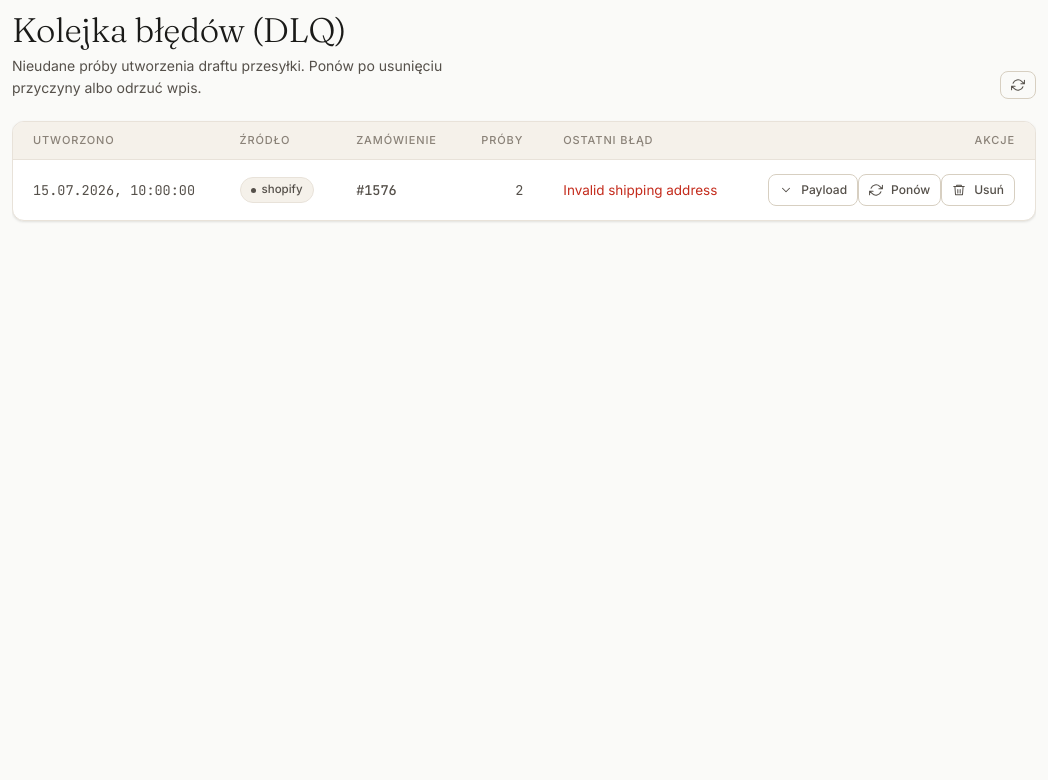
Scenario: DlqView › retries an event and reflects success
Check: the text "#1576" is shown, box [336,159,460,220]
Click the button "Ponów" at (900, 190), box [858,174,941,206]
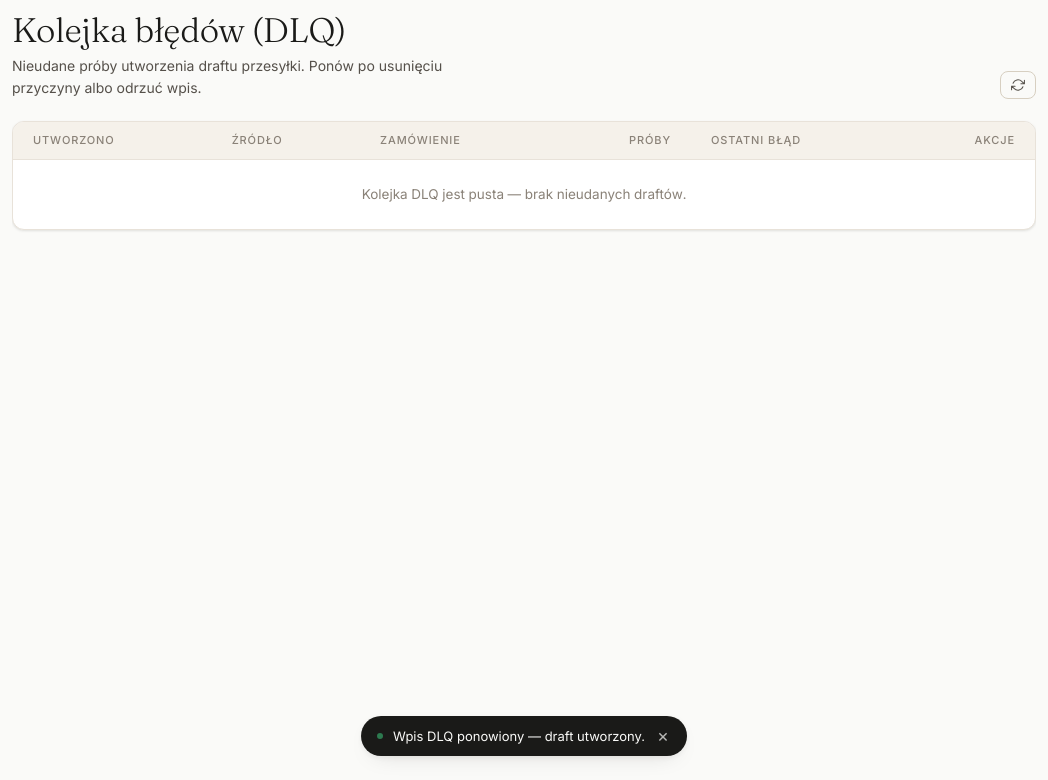
Check: the text "Wpis DLQ ponowiony — draft utworzony." is shown, box [393,726,645,746]
Check: the text "Kolejka DLQ jest pusta — brak nieudanych draftów." is shown, box [13,159,1035,229]
